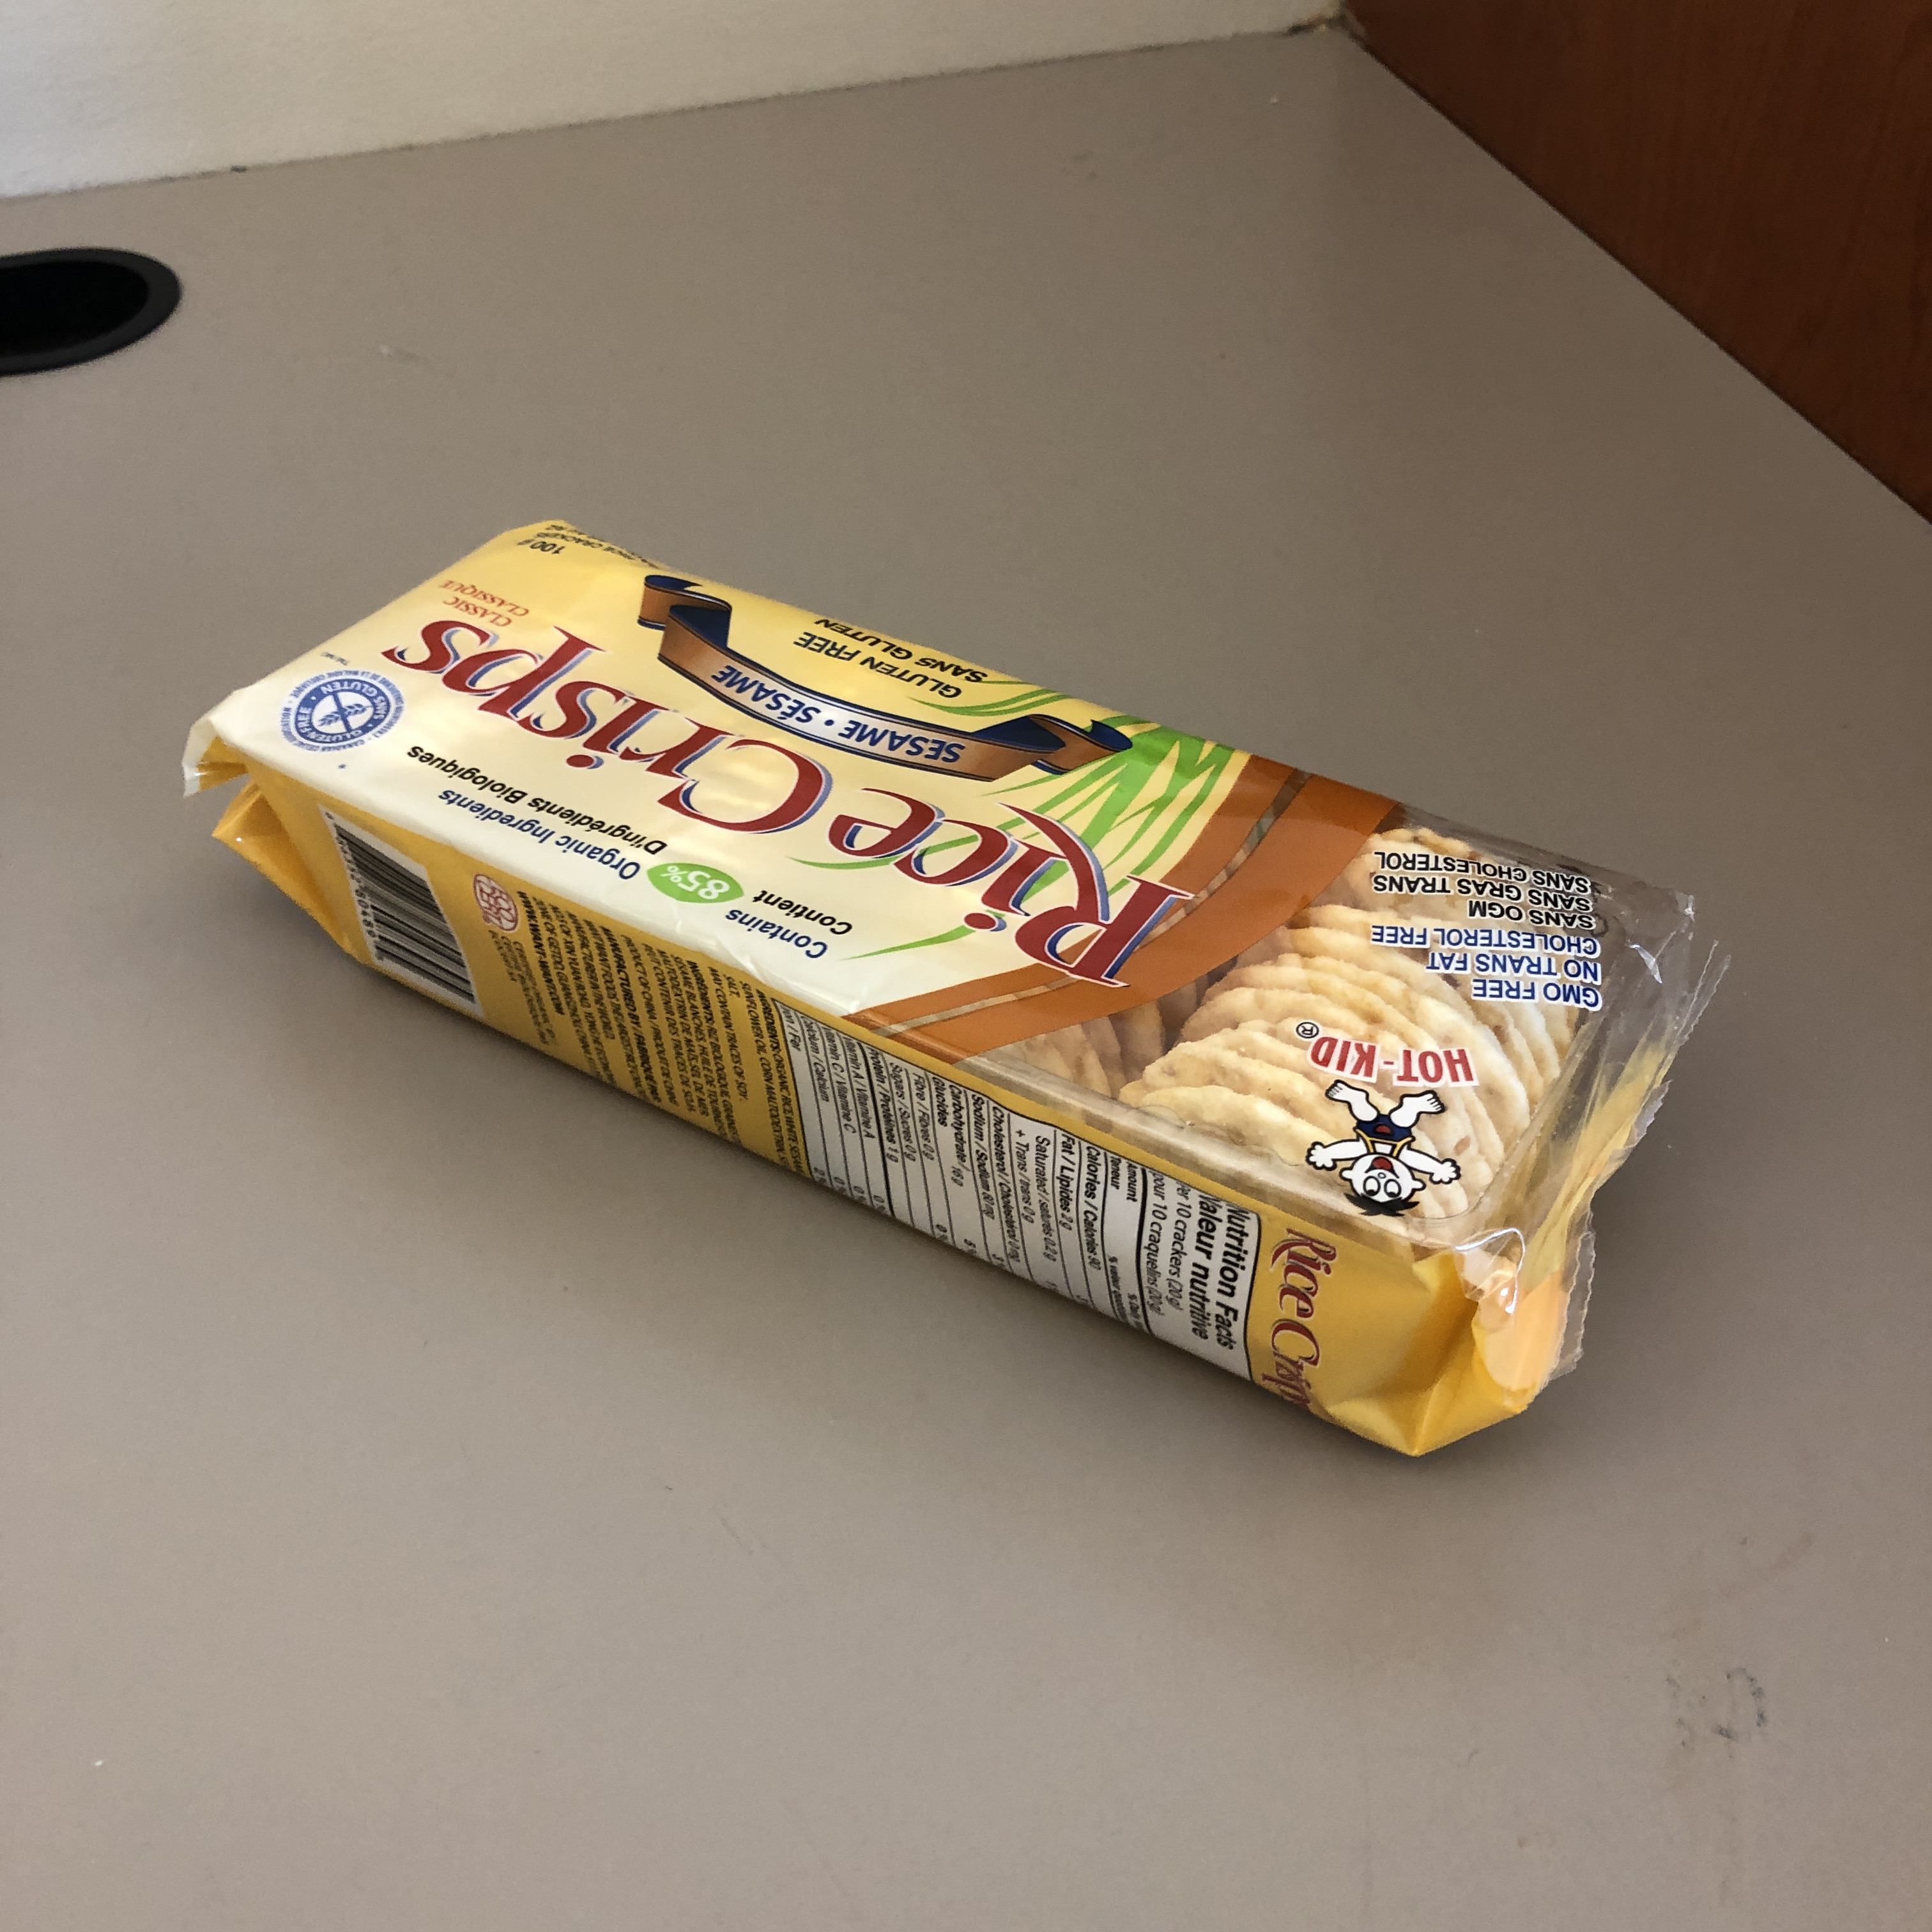hot_kid_rice_crisps_sesame: (510, 354, 1220, 1672)
